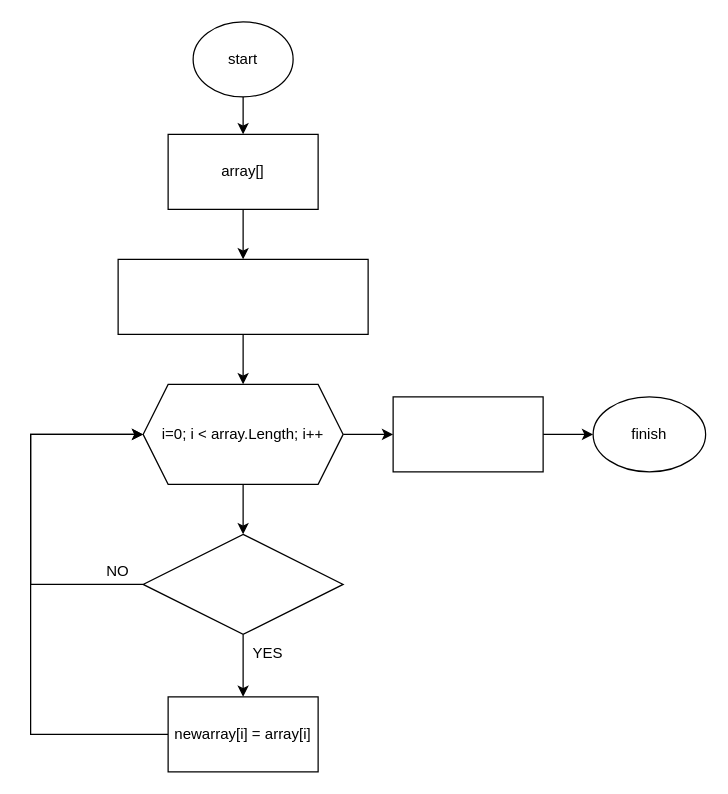
The diagram is 728 pixels wide and 794 high, and some of its shapes have lost their labels. The shapes that lost their labels are listed below. From the top down, each one's box as (x1, y1, x2, y2) in pixels, then its label:
(117, 258, 368, 334): newarray[] = new[array.Length]
(392, 396, 543, 472): newarray[]
(142, 533, 343, 634): array[i].Length <= 3
